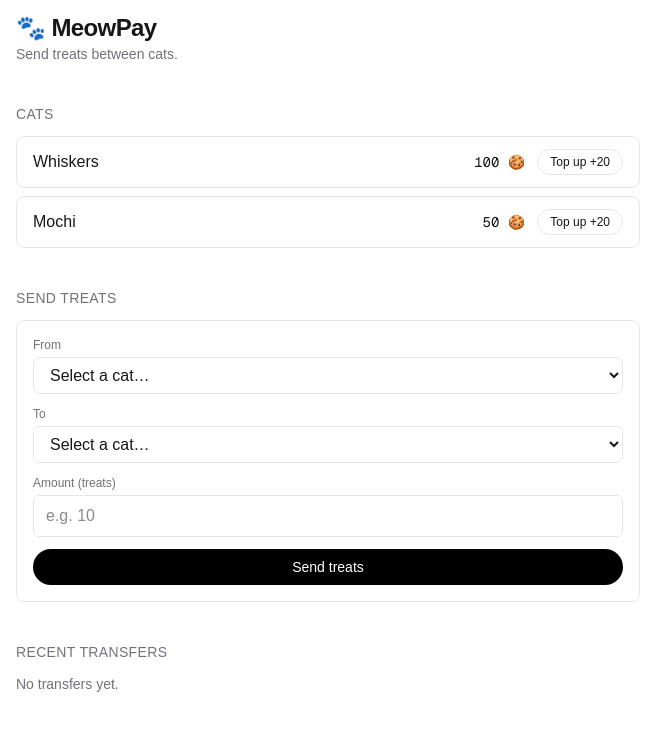
Home › rejects a non-positive amount
The width and height of the screenshot is (657, 741).
Expected: the list is shown, [16,136,640,248]
Select "Whiskers (100 treats)" in the dropdown labelled "From" at (328, 376), box [33,357,623,394]
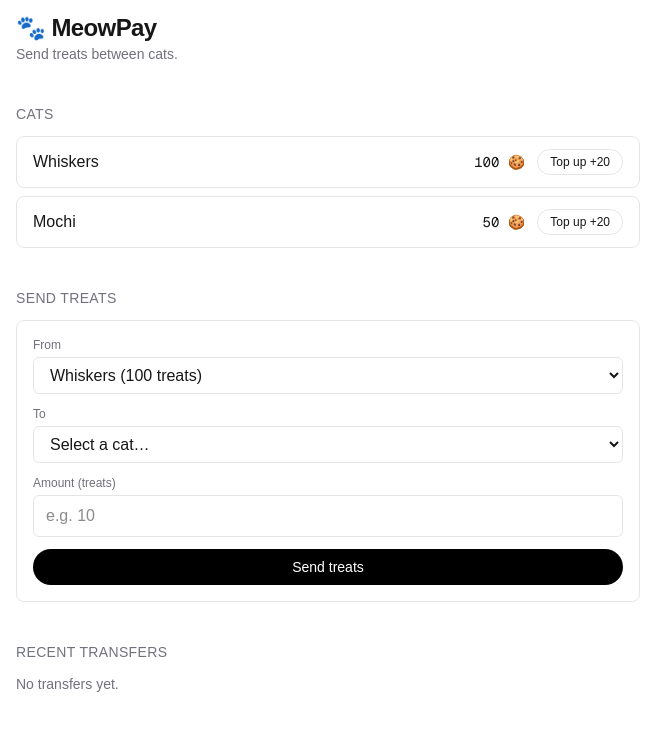
Select "Mochi" in the dropdown labelled "To" at (328, 444), box [33,426,623,463]
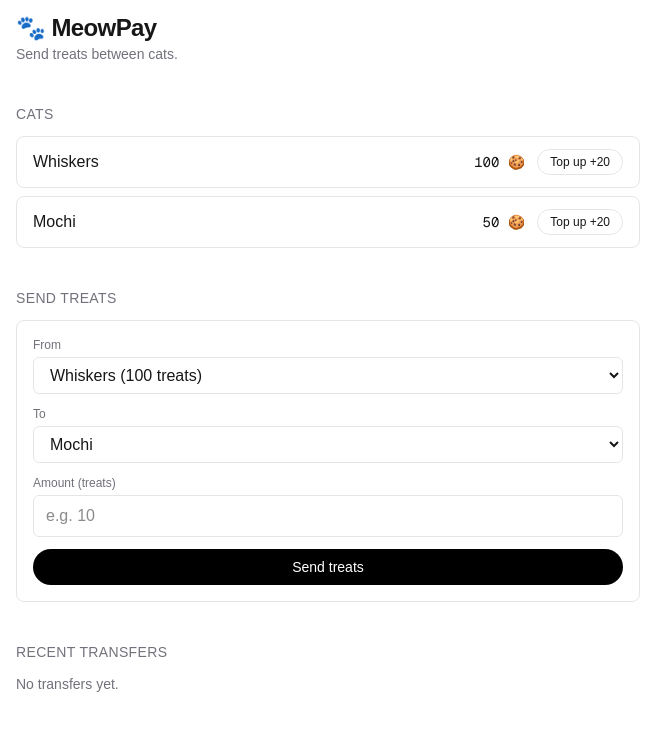
Type "0" into the field labelled "Amount (treats)" at (328, 516), box [33,495,623,537]
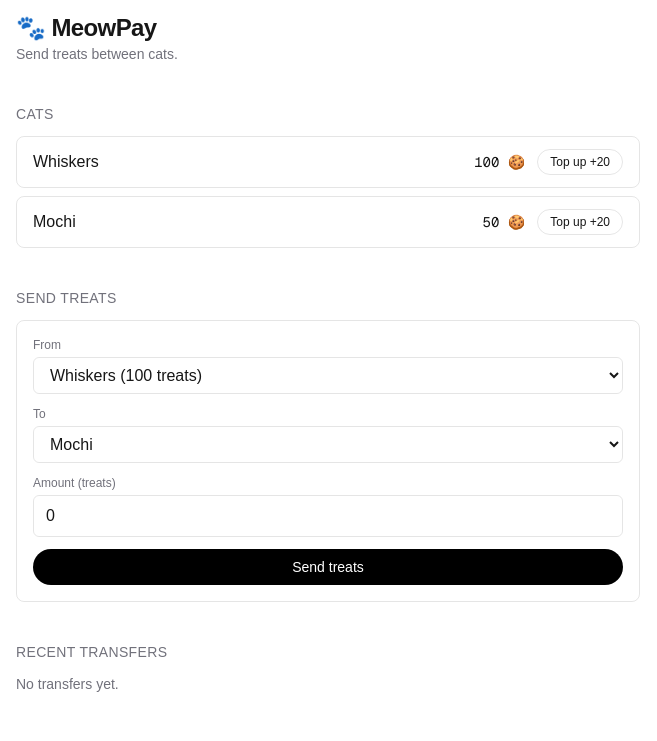
Click the button "Send treats" at (328, 567), box [33,549,623,585]
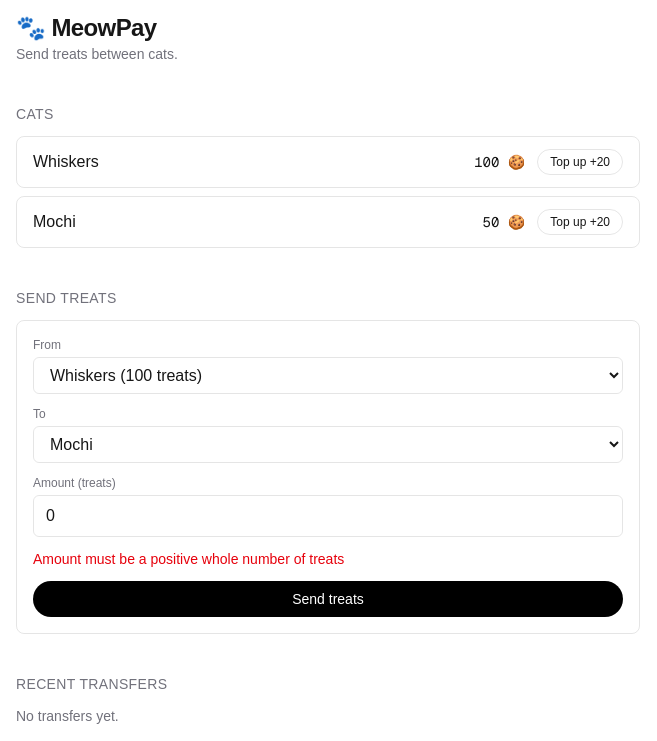
Result: the text "Amount must be a positive whole number of treats" is shown at [33,551,344,567]
